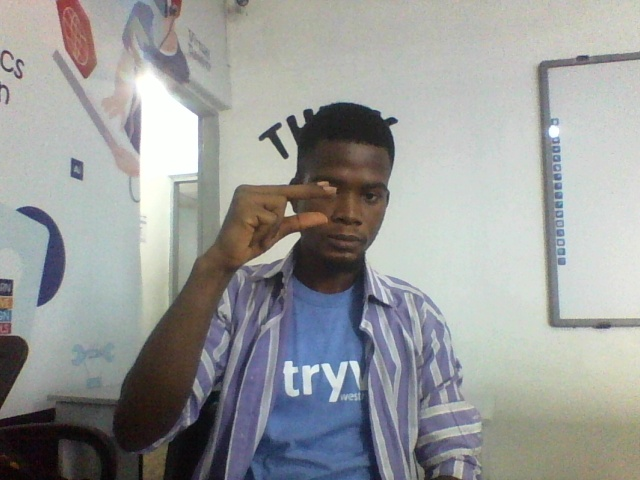no: (187, 180, 339, 282)
